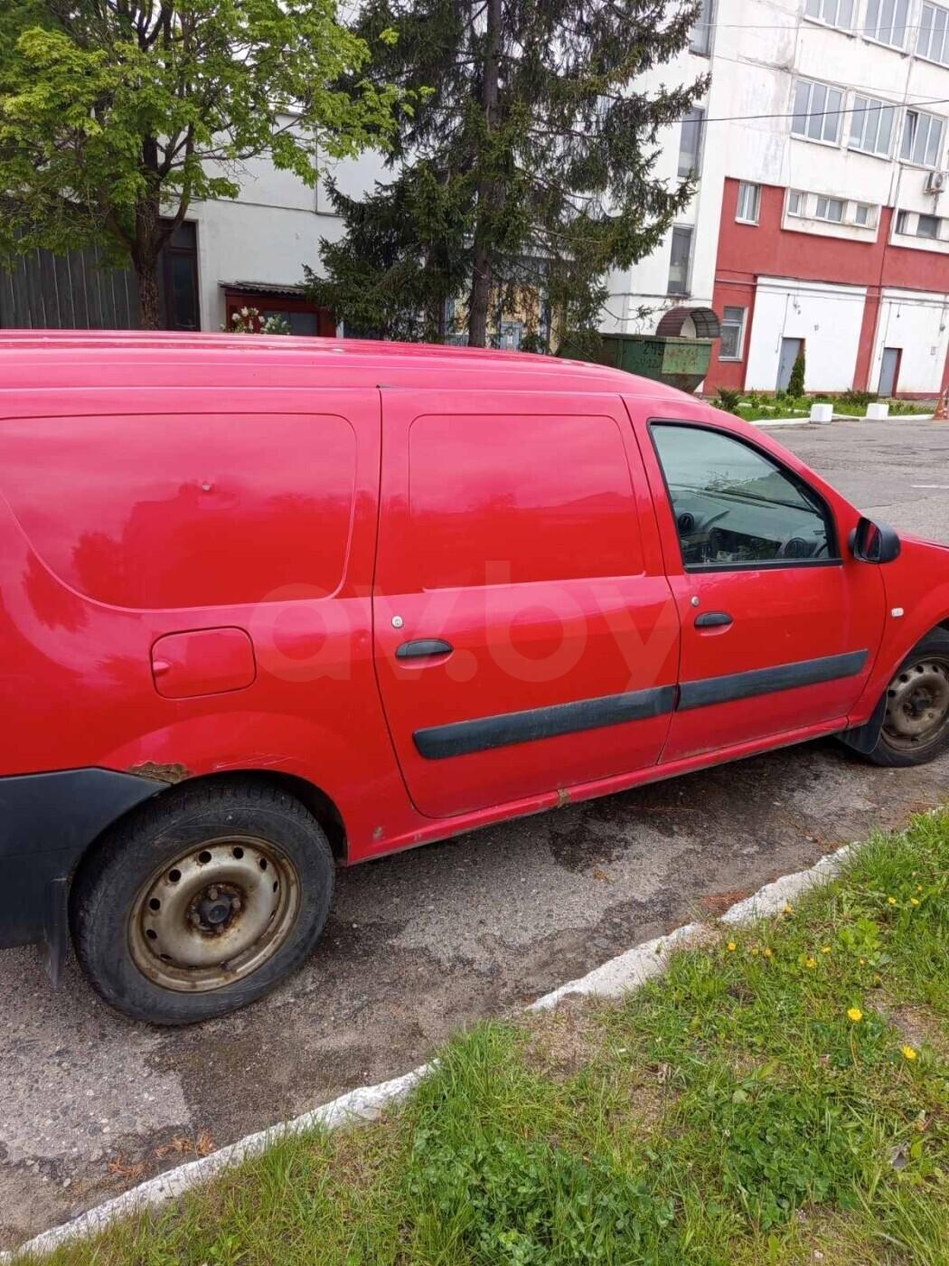Logan_2008-2015: (0, 322, 949, 1038)
